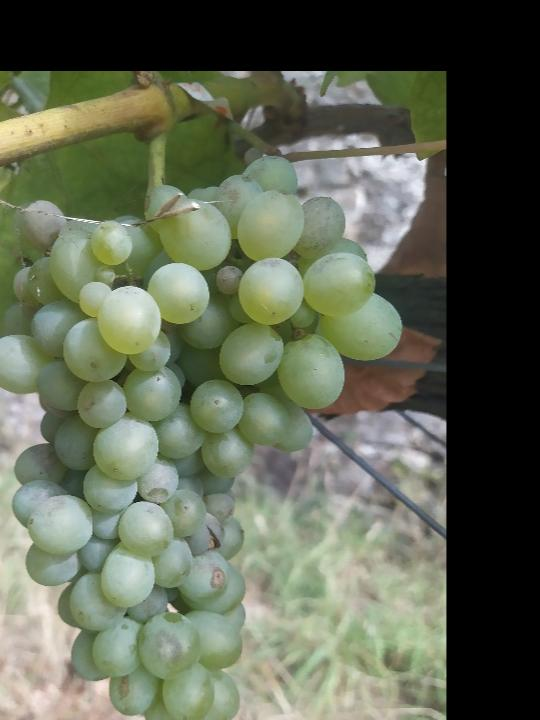grape: (0, 154, 403, 720)
